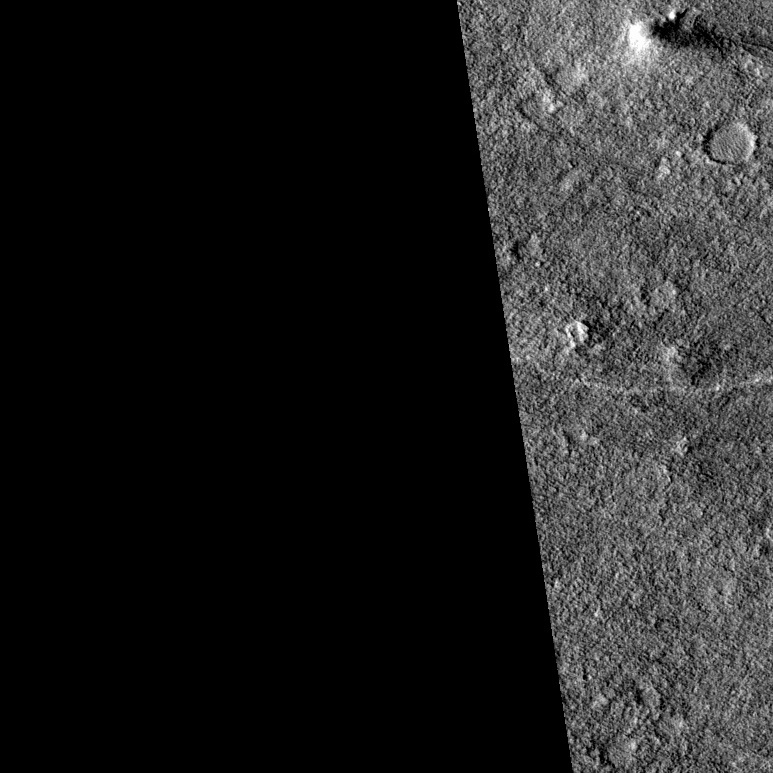dust_devil: (624, 7, 726, 56)
